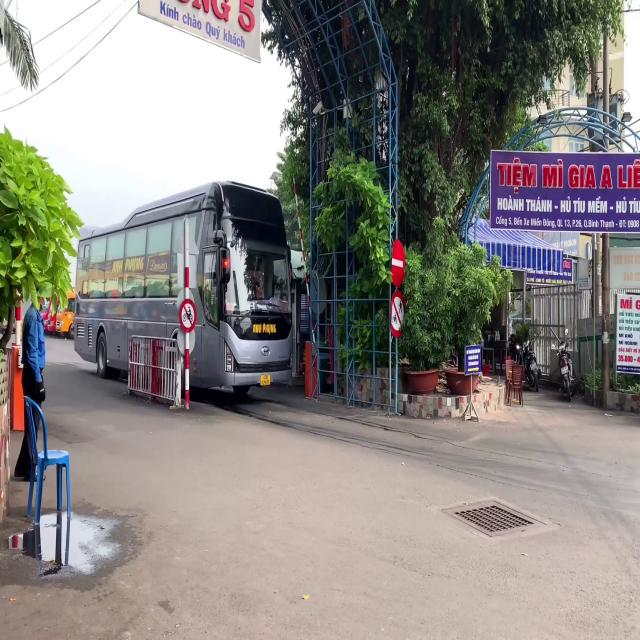bien_vang: (260, 374, 270, 386)
